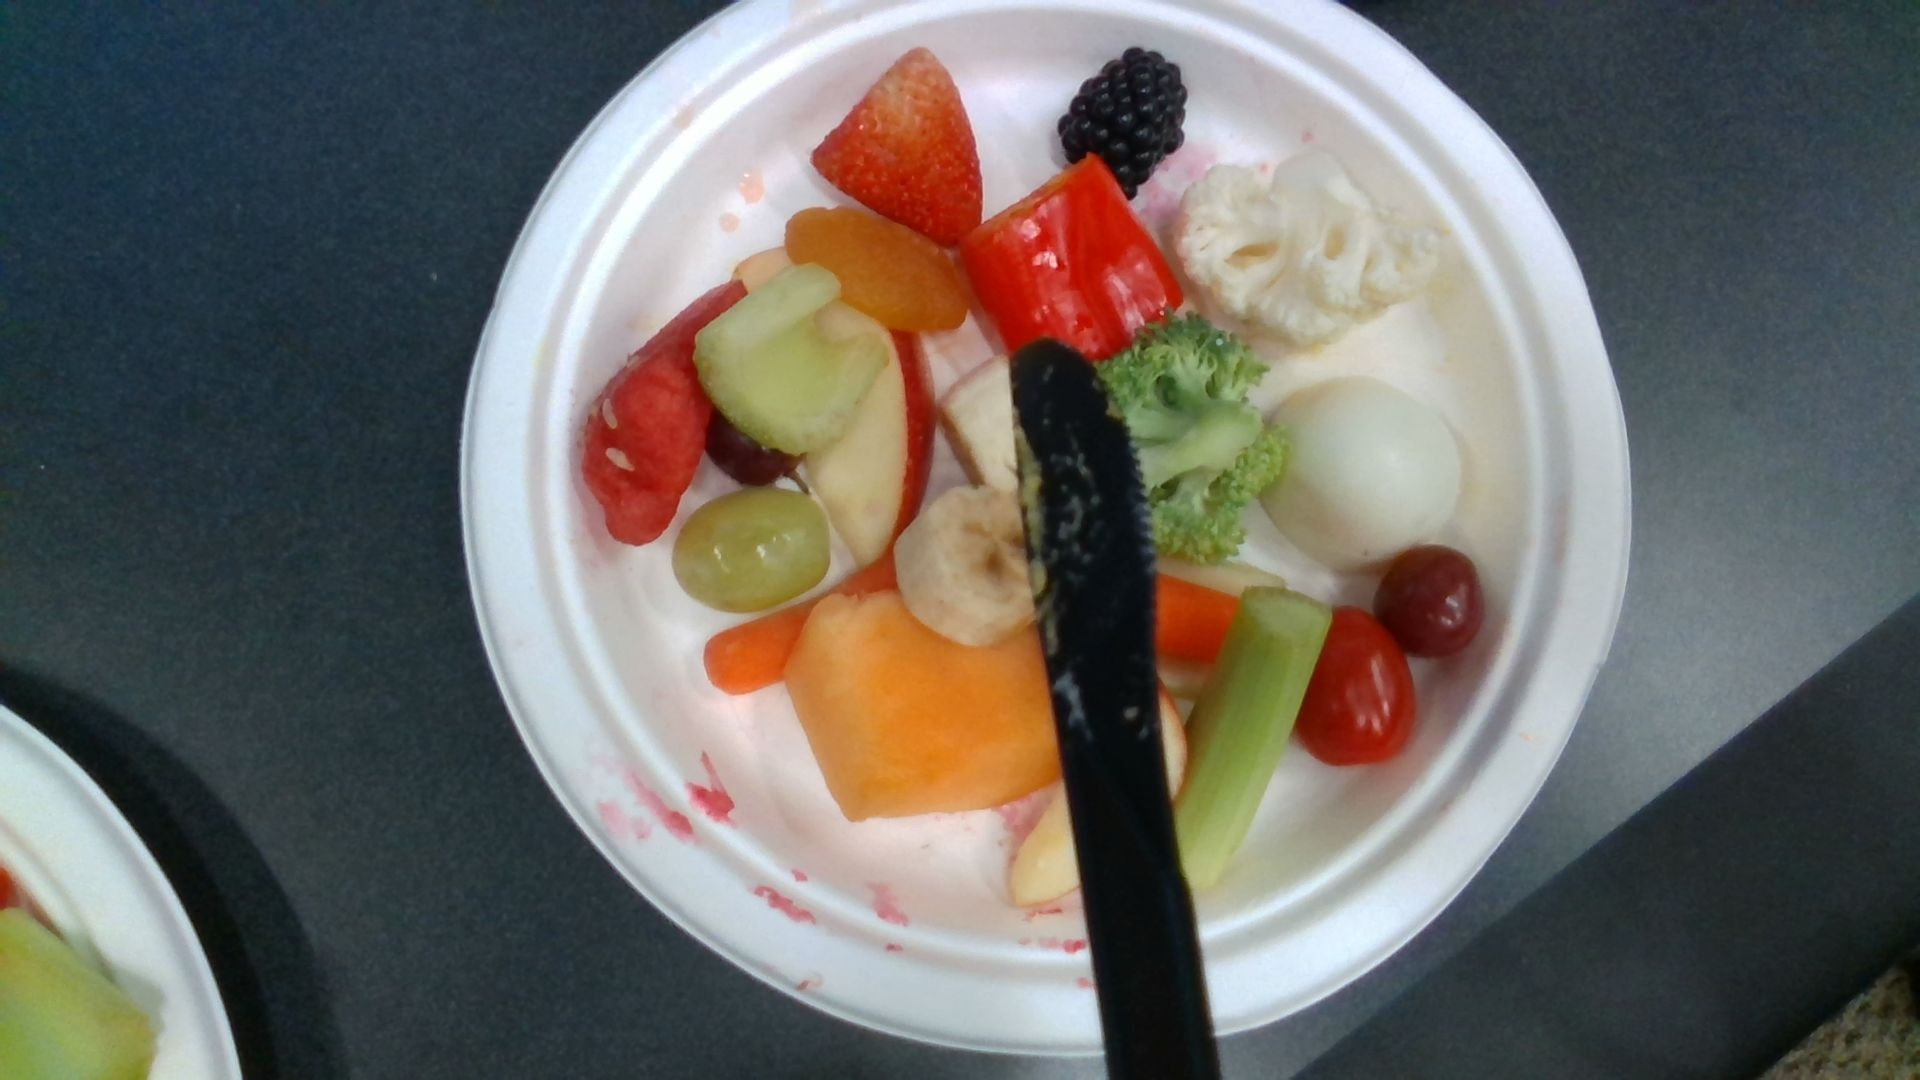apple: (737, 251, 934, 563), (1019, 680, 1187, 898)
apricot: (789, 206, 965, 336)
banana: (894, 485, 1039, 647)
bell_pepper: (959, 158, 1182, 361)
blackberry: (1062, 51, 1187, 190)
broccoli: (1100, 318, 1284, 560)
cantalope: (787, 593, 1059, 818)
carrot: (705, 556, 902, 694)
cauliflower: (1178, 156, 1437, 343)
celery: (1175, 585, 1331, 893), (692, 265, 885, 454)
cherry_tomato: (1298, 608, 1414, 764)
egg: (1265, 380, 1460, 568)
grape_green: (675, 491, 827, 611)
grape_purple: (1374, 546, 1487, 655)
melon: (582, 280, 746, 546)
strawberry: (815, 50, 984, 245)
